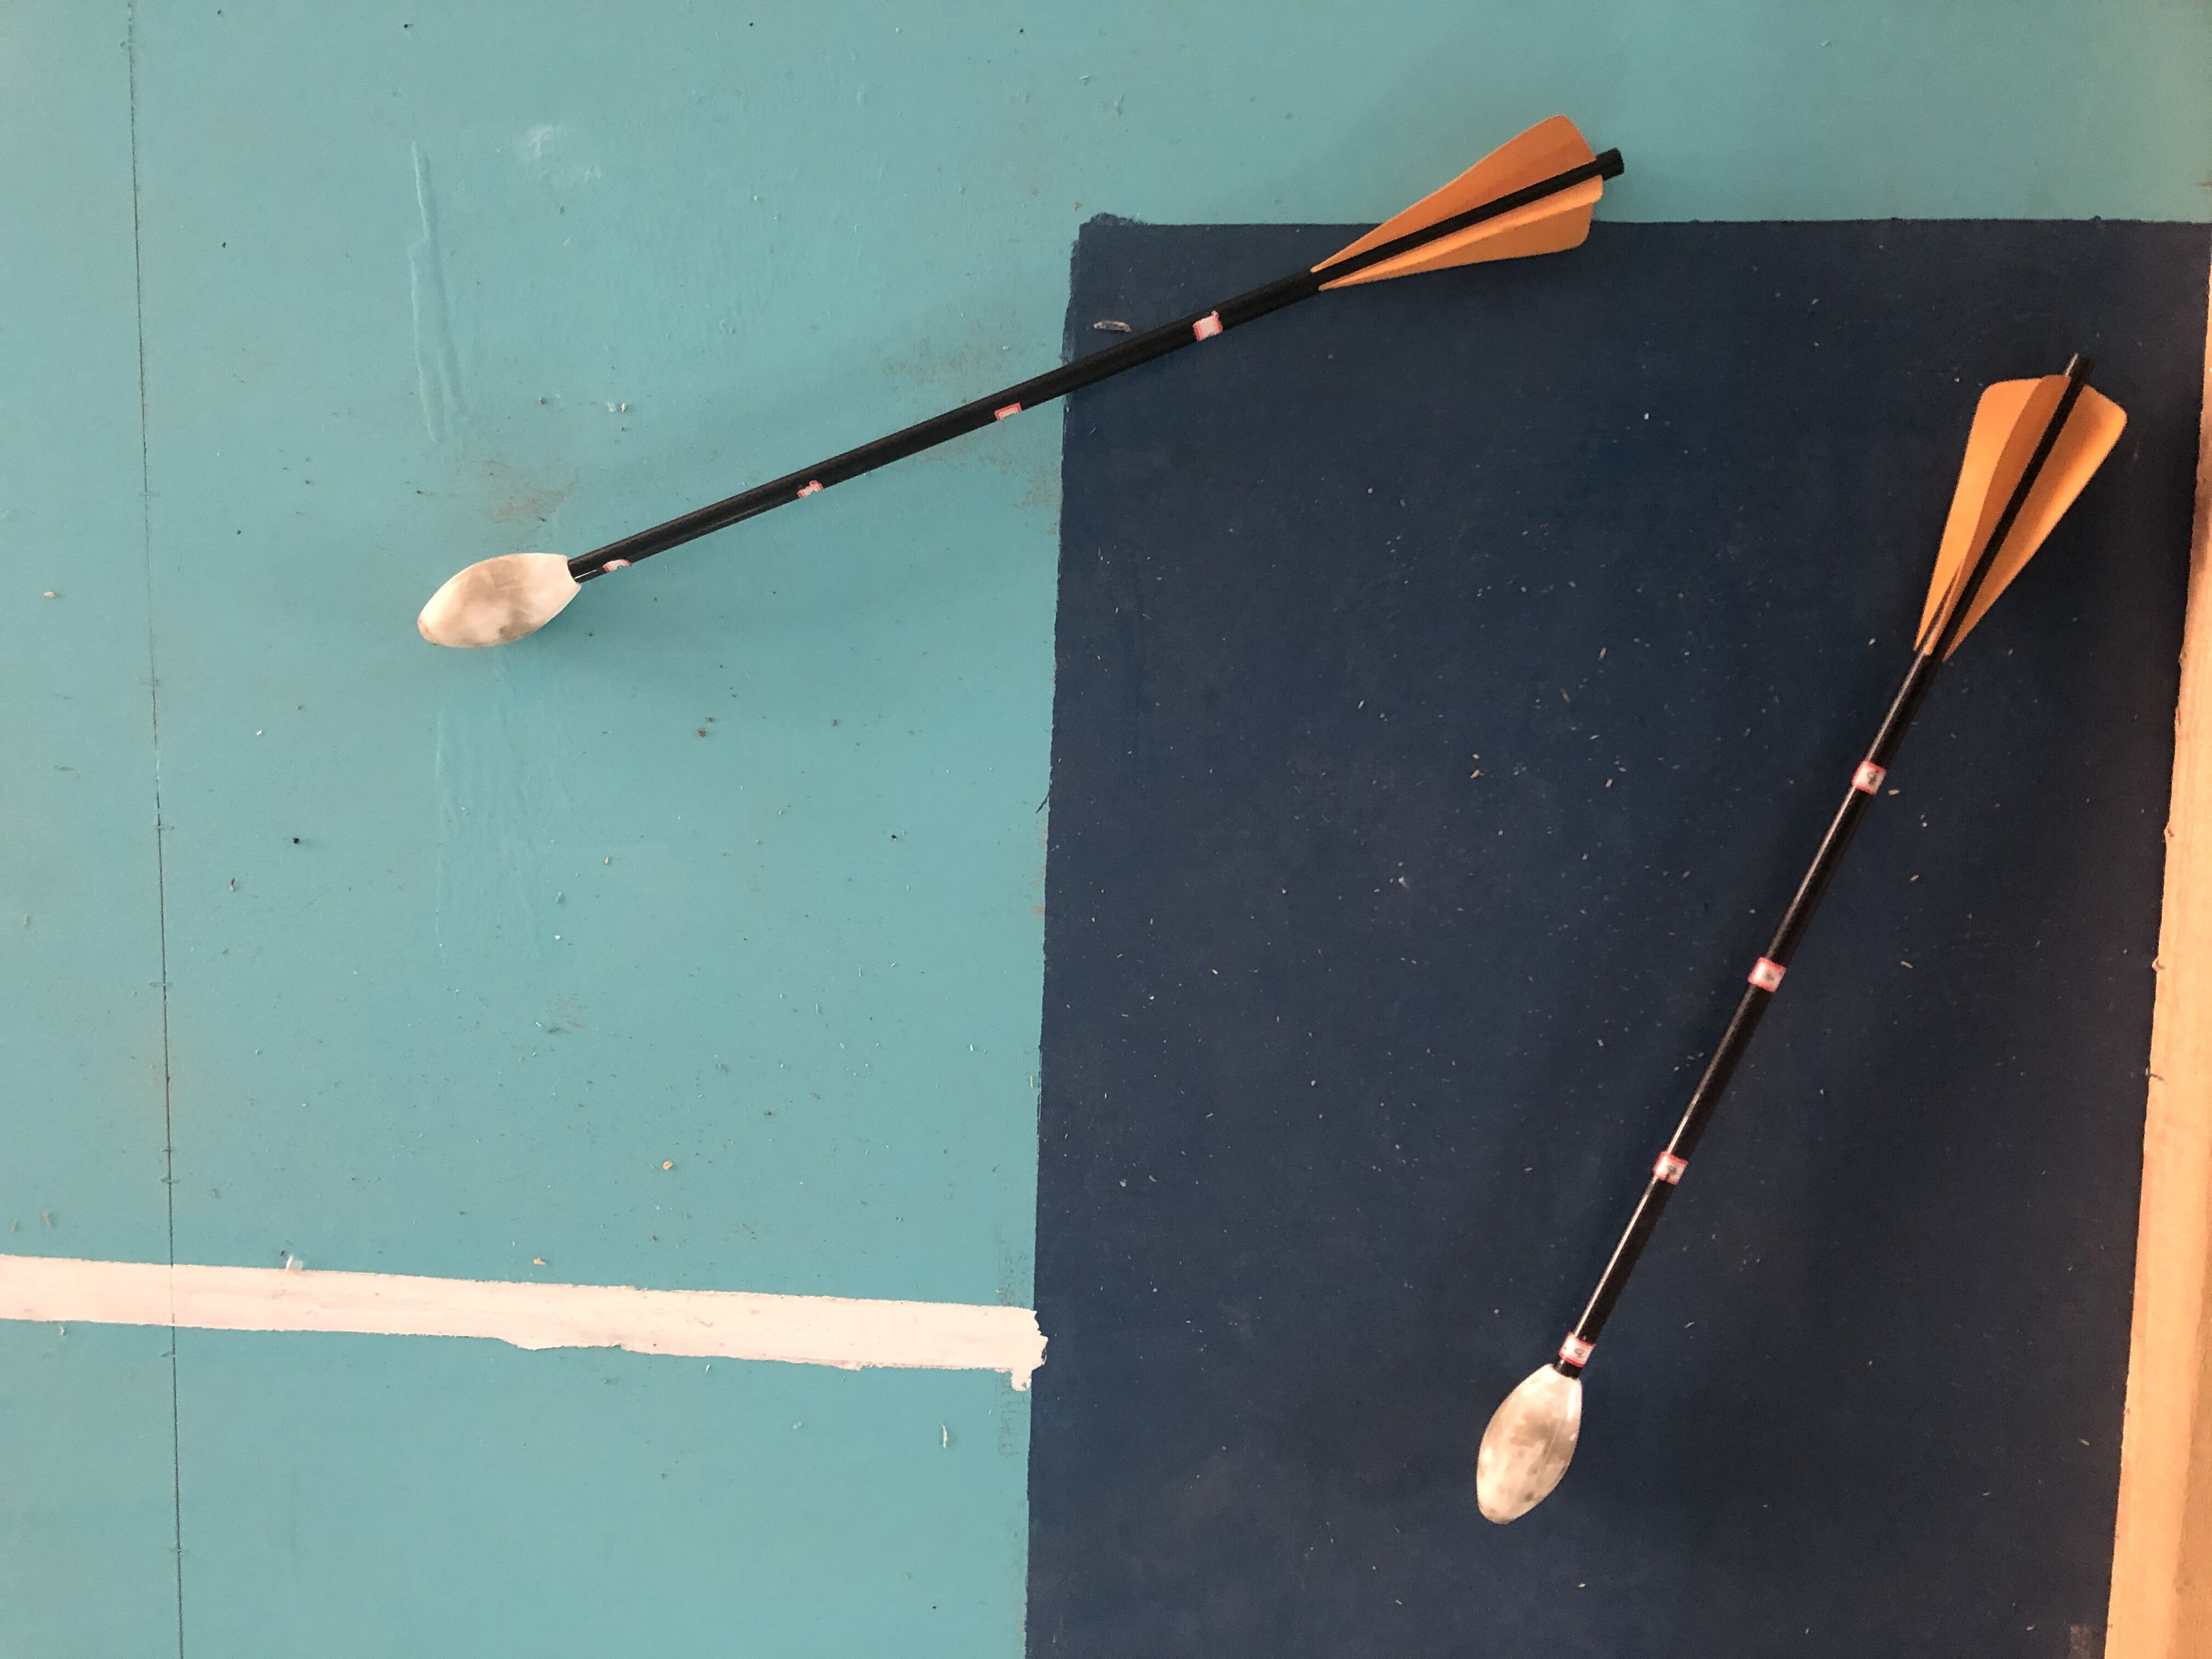arrow: (1474, 350, 2130, 1521), (413, 113, 1627, 655)
arrowFront: (1479, 1361, 1587, 1532), (418, 547, 589, 652)
